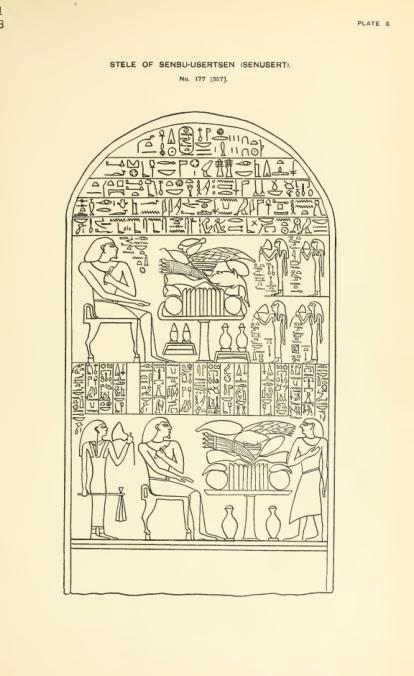circle: (177, 125, 197, 157)
